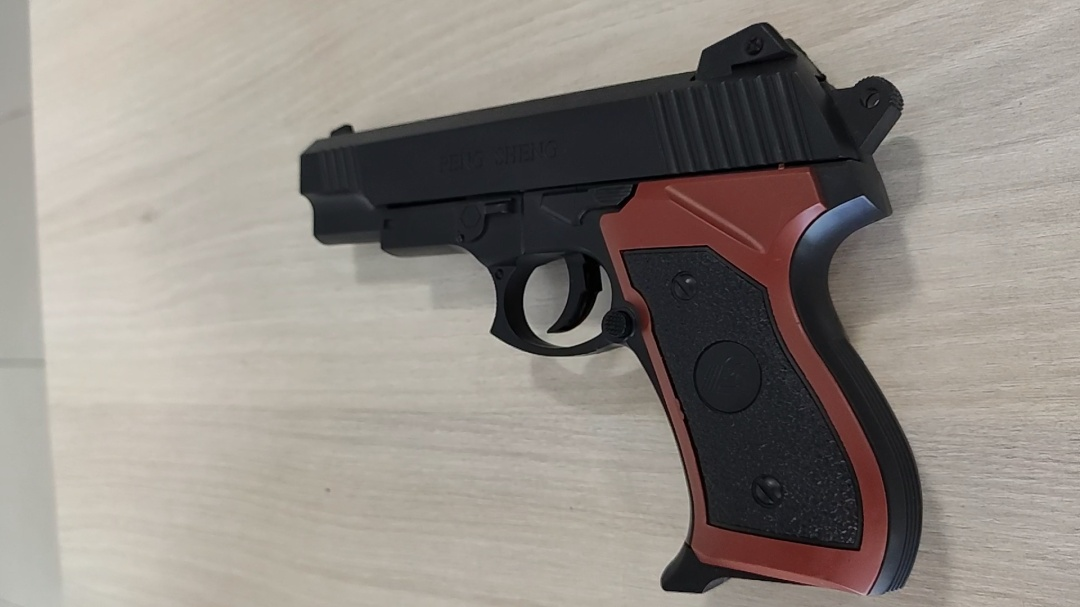gunw: (301, 20, 925, 595)
